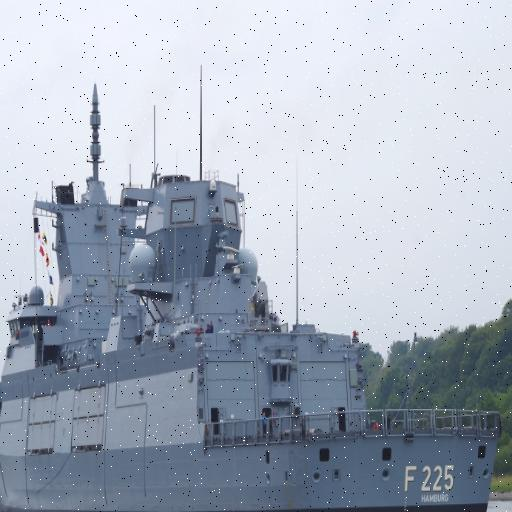Fragata: (1, 57, 510, 512)
